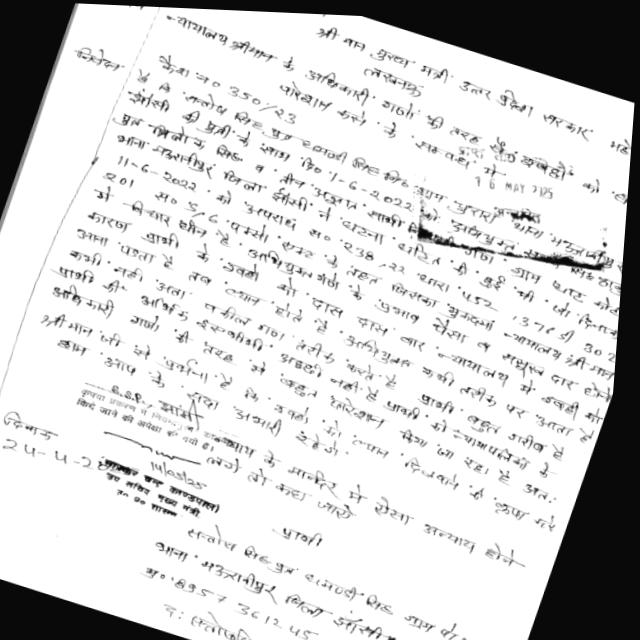antritgovtstamp: (432, 129, 589, 239)
signnamestamp: (71, 418, 252, 537)
